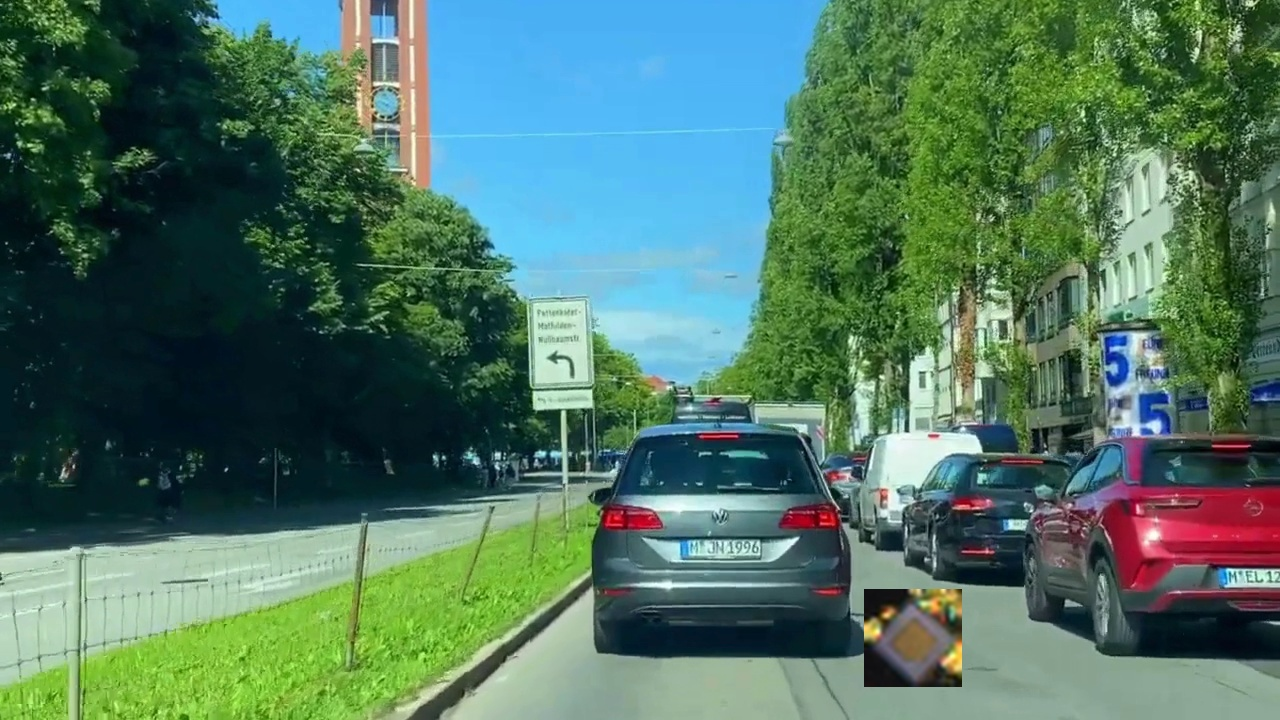Priority road: (864, 589, 962, 687)
